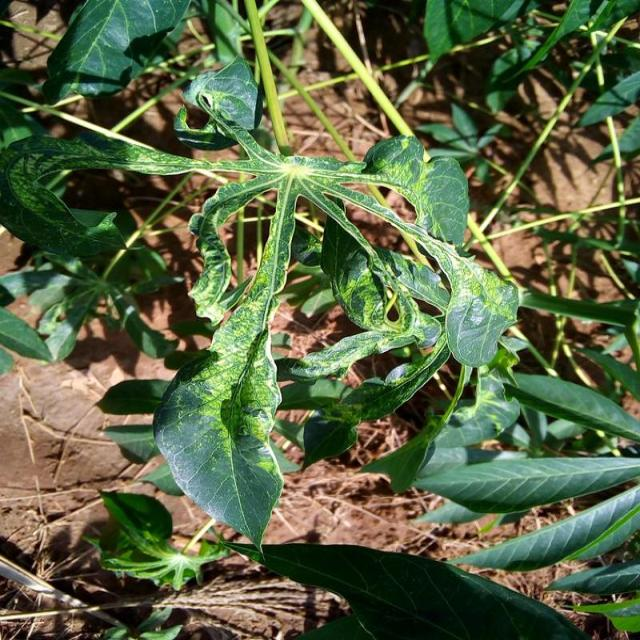cassava leaf: (148, 54, 518, 552), (42, 0, 190, 106)
